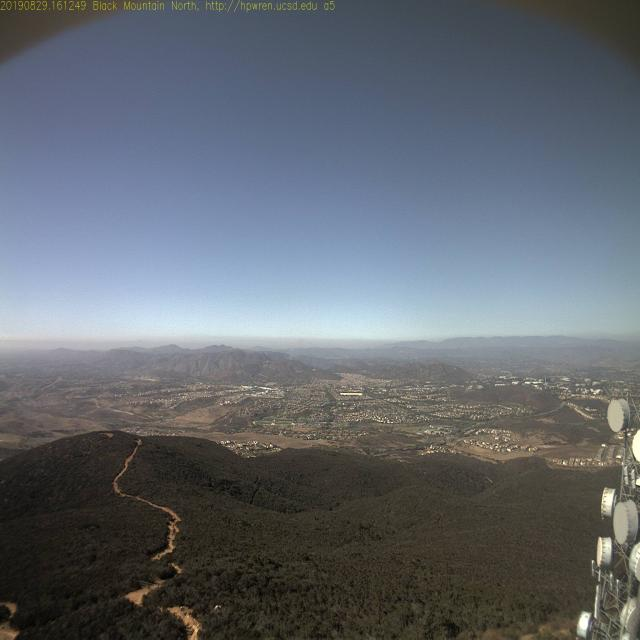smoke: (279, 336, 295, 360)
